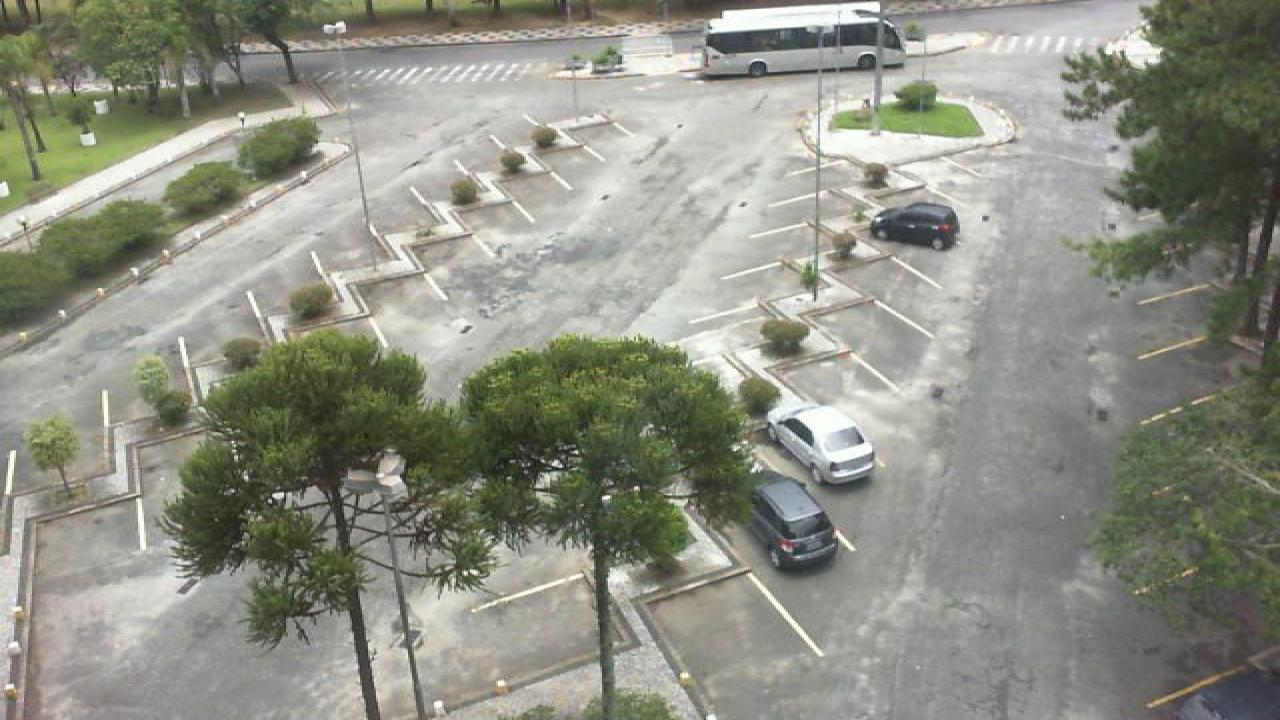Car: (762, 401, 878, 487), (746, 475, 840, 569), (868, 202, 962, 251)
